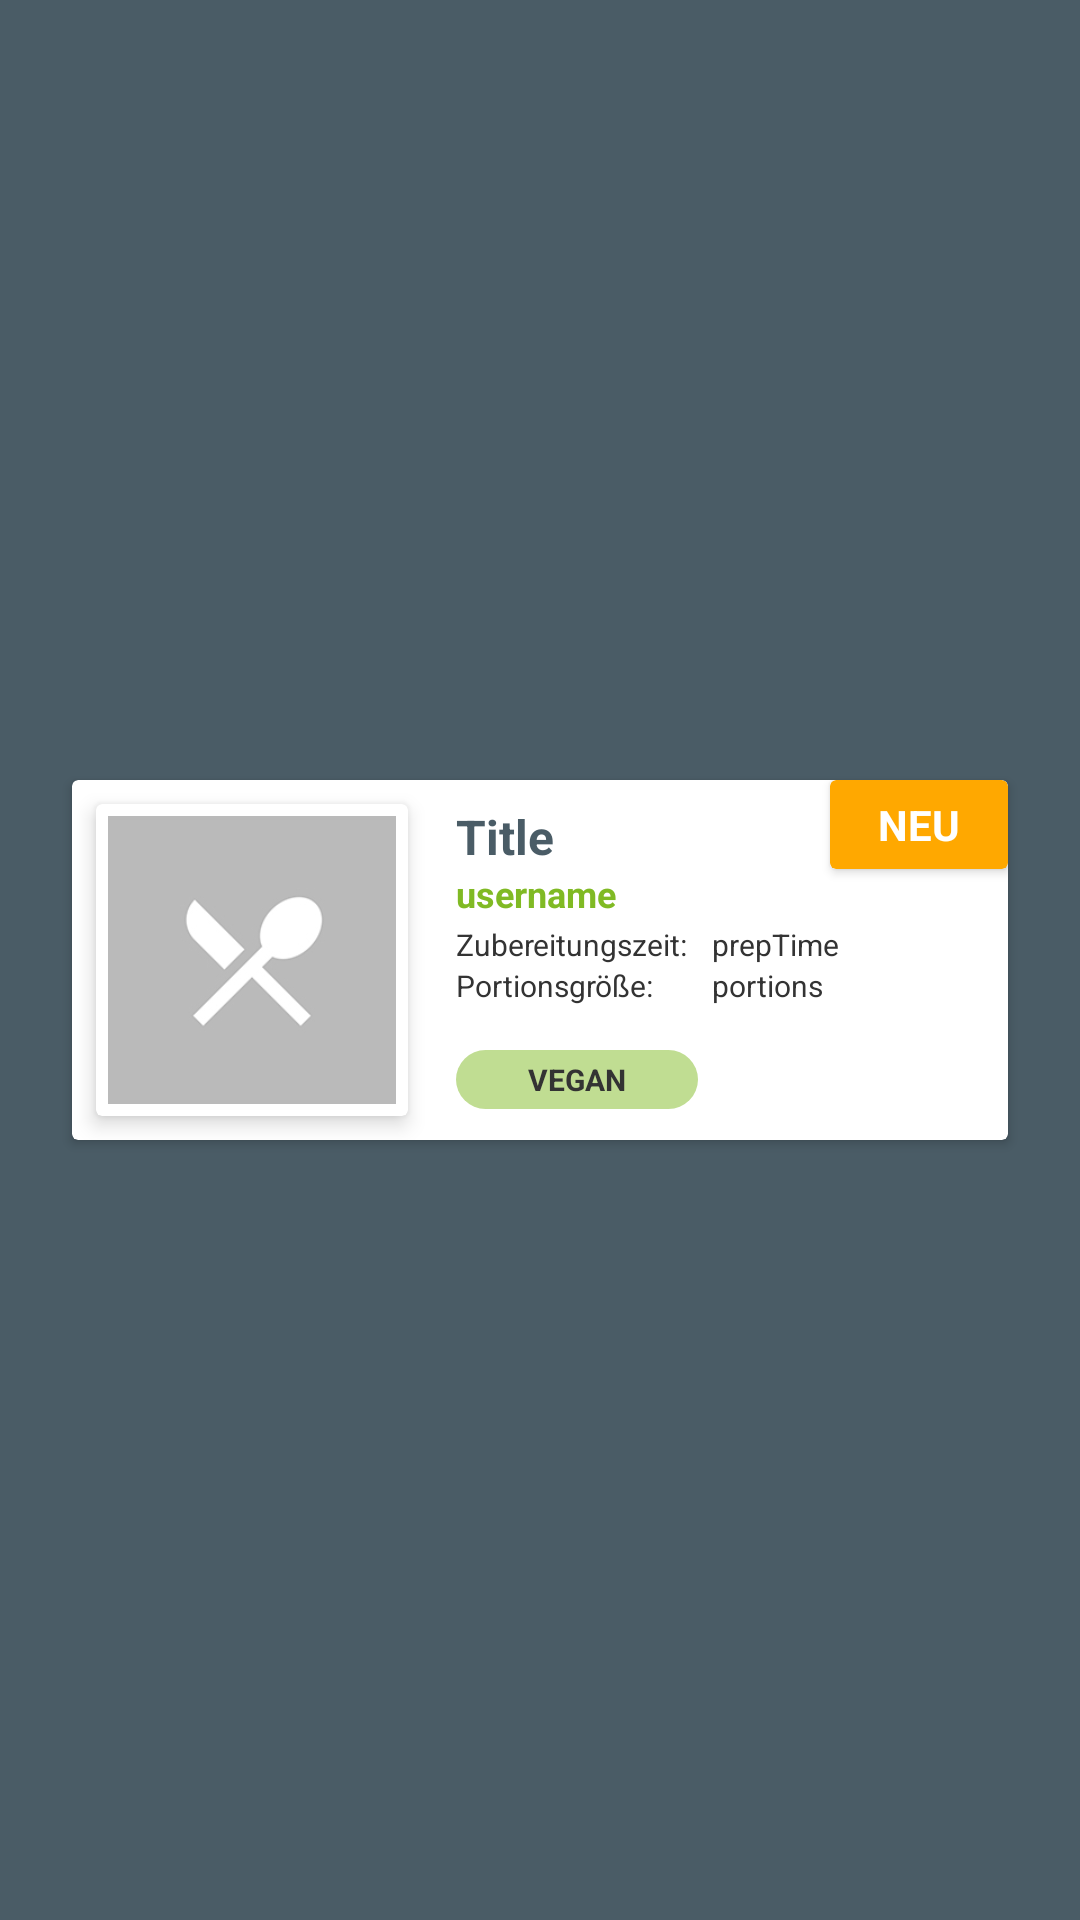

Screen size 1080px×1920px. Icon name, then its center in pixels as (x,y):
recipe: (252,960)
